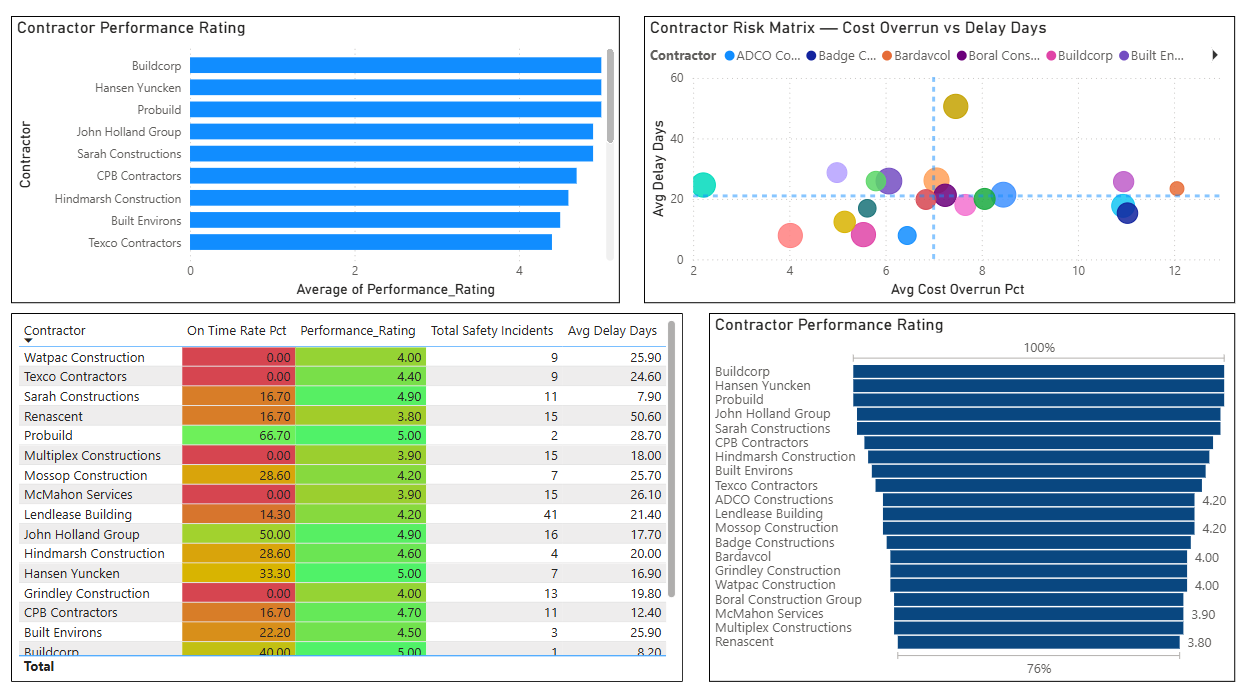

What the dashboard file says about the page in this screenshot:
{"tool":"powerbi","page":{"name":"Contractor Scorecard","canvas":[1280,720],"ordinal":3},"visuals":[{"type":"clusteredBarChart","title":"Contractor Performance Rating","fields":{"Category":["SiteBook_ContractorPerformance.Contractor"],"Y":["Avg(SiteBook_ContractorPerformance.Performance_Rating)"]},"box":[21.4,22.4,619.2,291.8],"z":0},{"type":"scatterChart","title":"Contractor Risk Matrix — Cost Overrun vs Delay Days","fields":{"X":["SiteBook_ContractorPerformance.Avg_Cost_Overrun_Pct"],"Y":["SiteBook_ContractorPerformance.Avg_Delay_Days"],"Series":["SiteBook_ContractorPerformance.Contractor"],"Size":["Sum(SiteBook_ContractorPerformance.Total_Contract_Value_AUD)"]},"box":[664.9,22.4,600.9,291.8],"z":1},{"type":"funnel","title":"Contractor Performance Rating","fields":{"Category":["SiteBook_ContractorPerformance.Contractor"],"Y":["Avg(SiteBook_ContractorPerformance.Performance_Rating)"]},"box":[731,324.3,534.8,375.2],"z":2},{"type":"tableEx","fields":{"Values":["SiteBook_ContractorPerformance.Contractor","SiteBook_ContractorPerformance.On_Time_Rate_Pct","SiteBook_ContractorPerformance.Performance_Rating","SiteBook_ContractorPerformance.Total_Safety_Incidents","SiteBook_ContractorPerformance.Avg_Delay_Days"]},"box":[21.4,324.3,683.2,375.2],"z":3}]}

Visuals, with their boxes in screenshot pixels (x1, y1, x2, y2), scaled from the page's 1280x720 canvas onto the 1245x693 screenshot:
"Contractor Performance Rating" clusteredBarChart: <region>21, 22, 623, 302</region>
"Contractor Risk Matrix — Cost Overrun vs Delay Days" scatterChart: <region>647, 22, 1231, 302</region>
"Contractor Performance Rating" funnel: <region>711, 312, 1231, 673</region>
tableEx - SiteBook_ContractorPerformance.Contractor x SiteBook_ContractorPerformance.On_Time_Rate_Pct: <region>21, 312, 685, 673</region>
